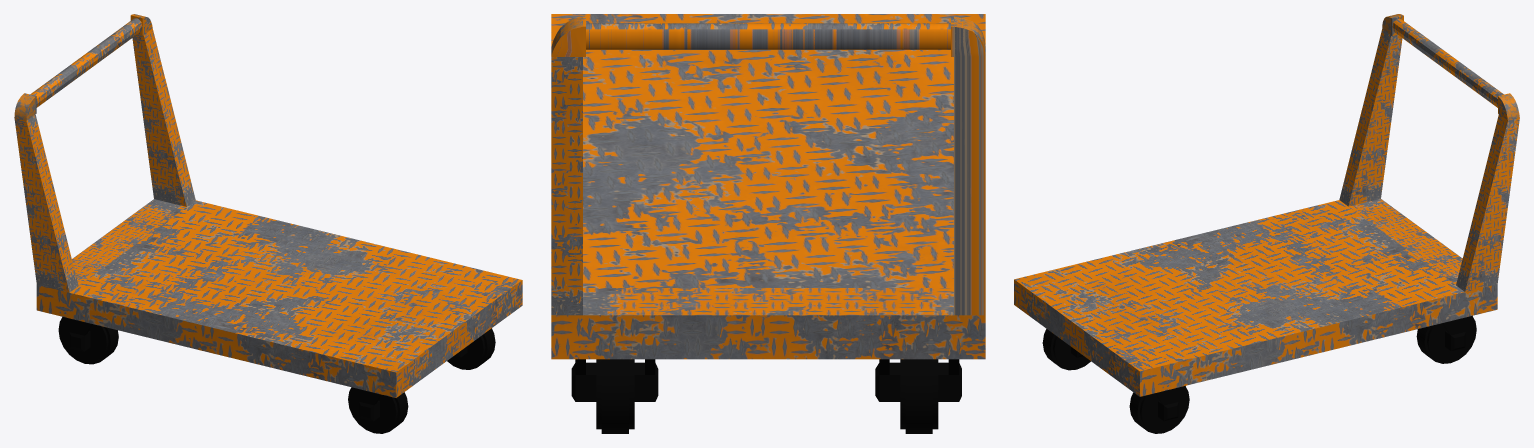
File: Carrito.fbx
The picture shows the model from 3 angles, left to right: view 1: azimuth 30°, elevation 25°; view 2: azimuth 150°, elevation 25°; view 3: azimuth 270°, elevation 25°; orthographic projection. The views are drawn at different scales.
Visible parts, largest first — view 1: Cylinder078; view 2: Cylinder078; view 3: Cylinder078.
Part boxes in pixels (x1,y1,x2,y2): Cylinder078: (14, 14, 522, 433); Cylinder078: (551, 14, 985, 433); Cylinder078: (1014, 14, 1519, 433).
Size of the model in its own units: 159 by 104 by 183.
